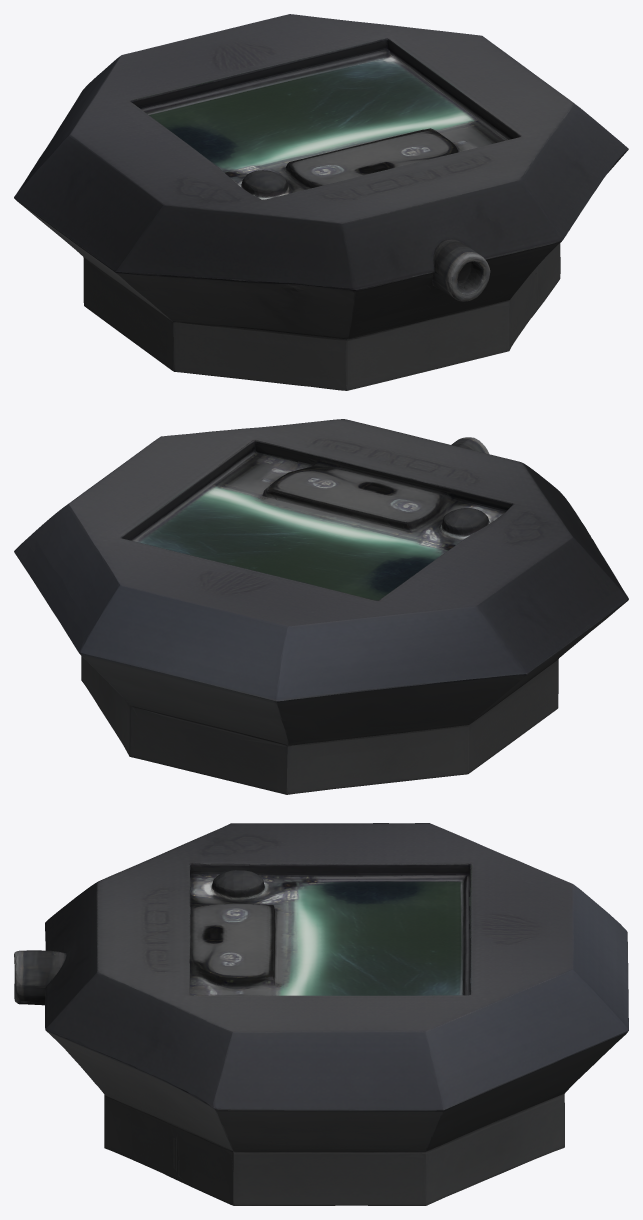
3 views of the same model, one above another, from view 1: azimuth 30°, elevation 25°; view 2: azimuth 150°, elevation 25°; view 3: azimuth 270°, elevation 25° (orthographic). The views are drawn at different scales.
Parts seen in each view (by area): view 1: world; view 2: world; view 3: world.
Part boxes in pixels (x1,y1,x2,y2): world: (14, 14, 628, 390); world: (14, 419, 628, 794); world: (14, 823, 628, 1205).
Bounding box in the file's own units: 0.9953 × 0.3261 × 0.9947.
Materials: 1 (1 with a texture image).
